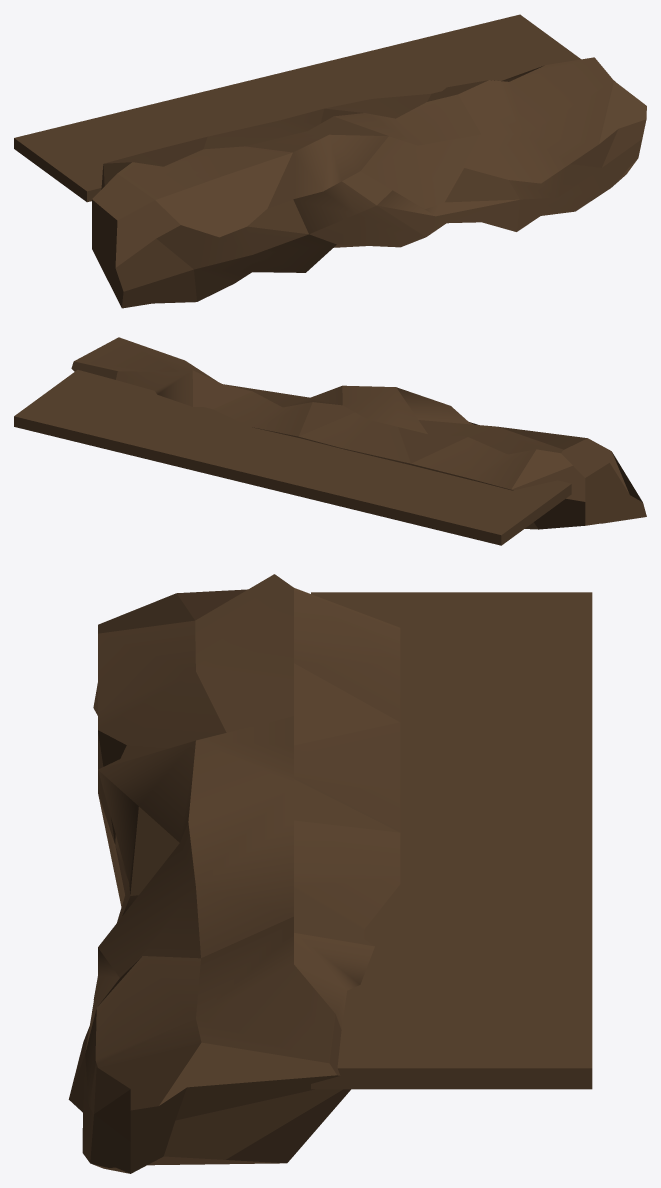
The model's file is PlatformV1.fbx.
The picture shows the model from 3 angles, top to bottom: view 1: azimuth 30°, elevation 25°; view 2: azimuth 150°, elevation 25°; view 3: azimuth 270°, elevation 25°; orthographic projection. The views are drawn at different scales.
Visible parts, largest first — view 1: pCube1, pCube2; view 2: pCube2, pCube1; view 3: pCube1, pCube2.
Boxes of the visible parts, x1,y1,x2,y2 form: pCube1: [92, 57, 646, 308]; pCube2: [14, 14, 580, 202]; pCube2: [14, 370, 571, 545]; pCube1: [71, 337, 646, 529]; pCube1: [68, 574, 400, 1173]; pCube2: [311, 592, 592, 1089].
Size of the model in its own units: 6.15 by 1.24 by 2.67.
